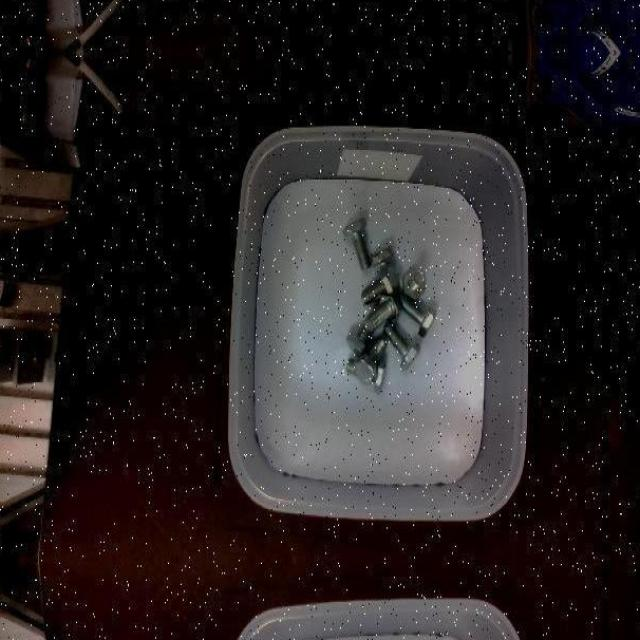screw: (384, 322, 422, 370), (398, 292, 436, 336), (360, 263, 399, 305), (342, 216, 370, 270), (354, 336, 385, 384), (404, 268, 426, 300)
